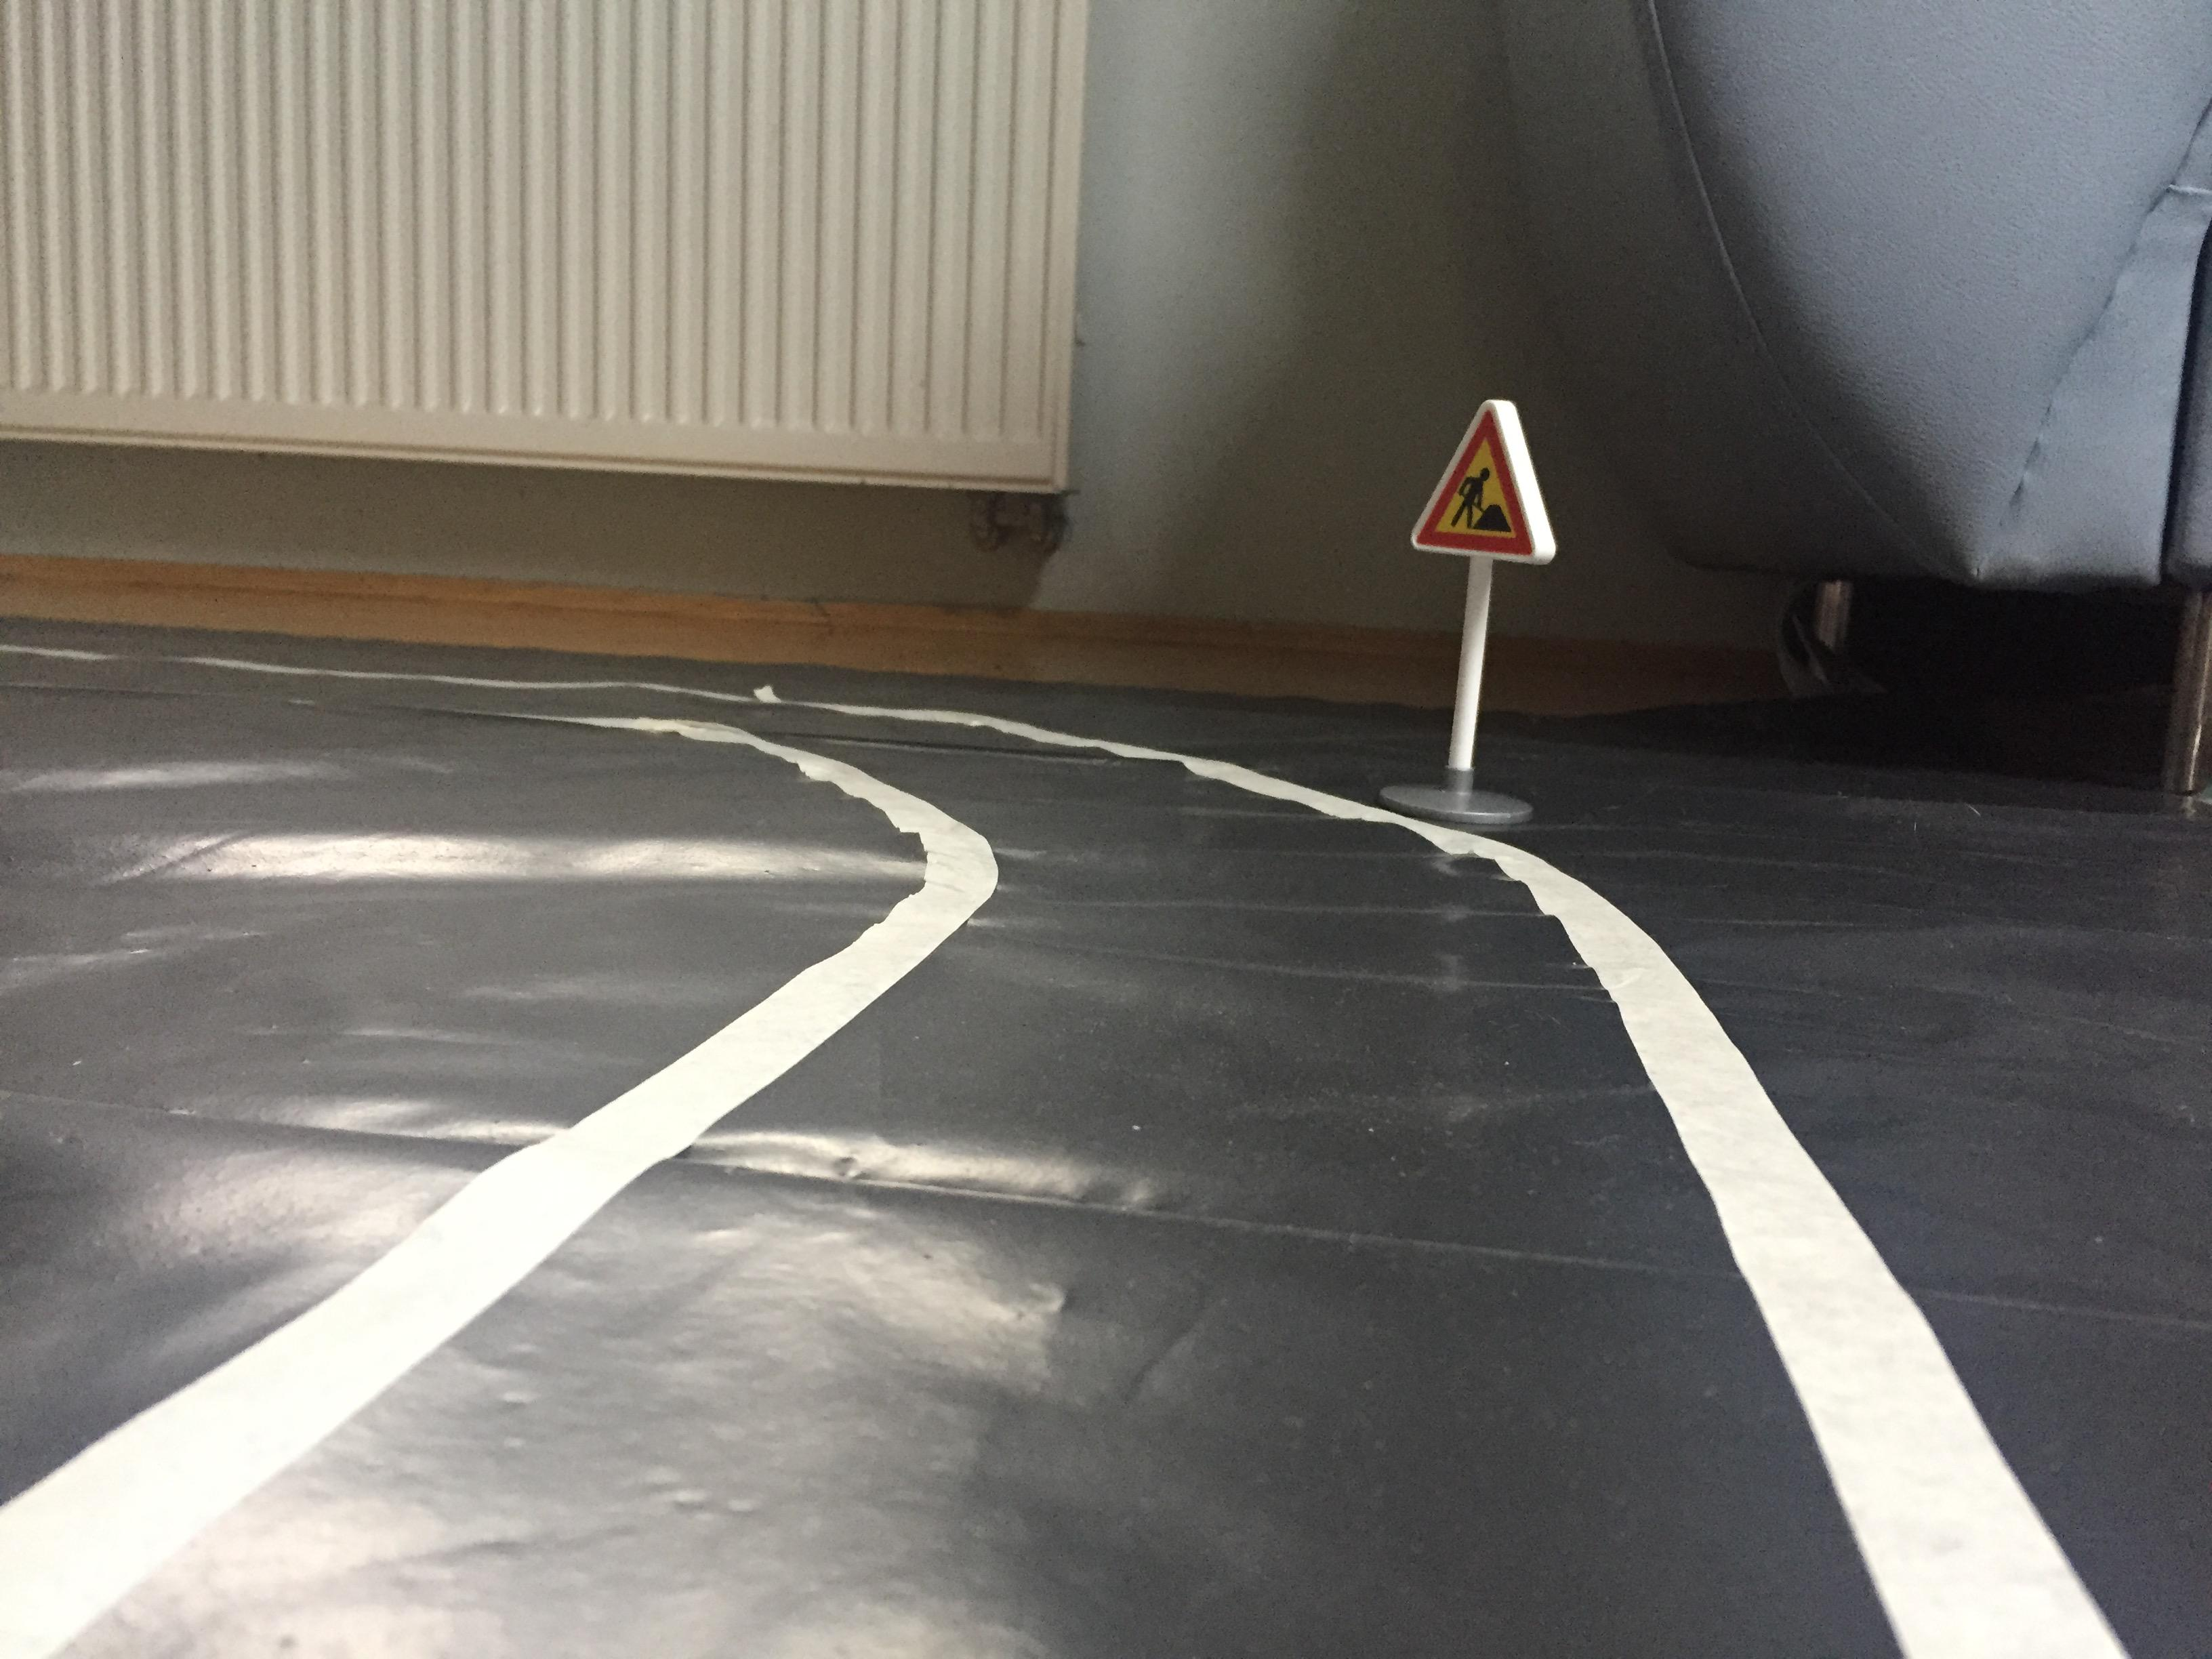work: (1402, 385, 1575, 573)
